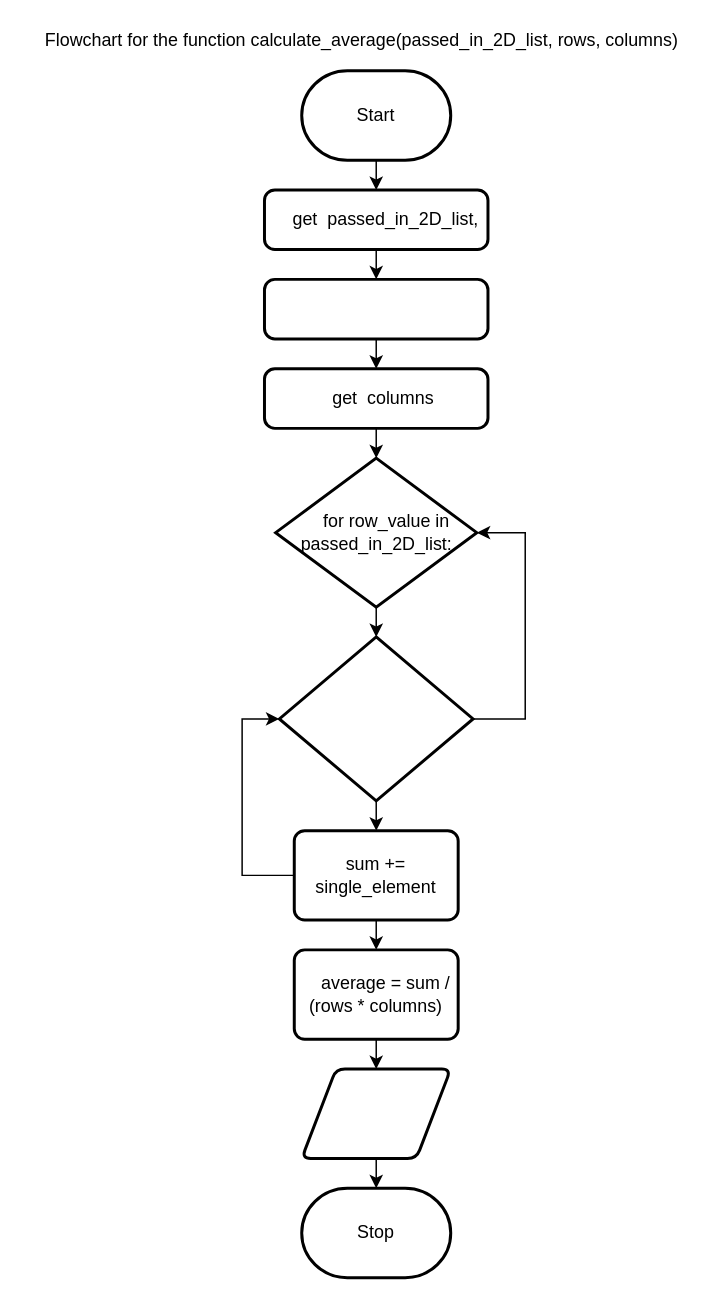
Some shapes in this 721 by 1304 pixel diagram are drawn without their labels. The shapes that lost their labels are listed below. From the top down, each one's centre as x and y in pixels, then its label:
At (375,308): "get rows".
At (375,718): "for single_element in row_value:".
At (375,1113): "return average".
